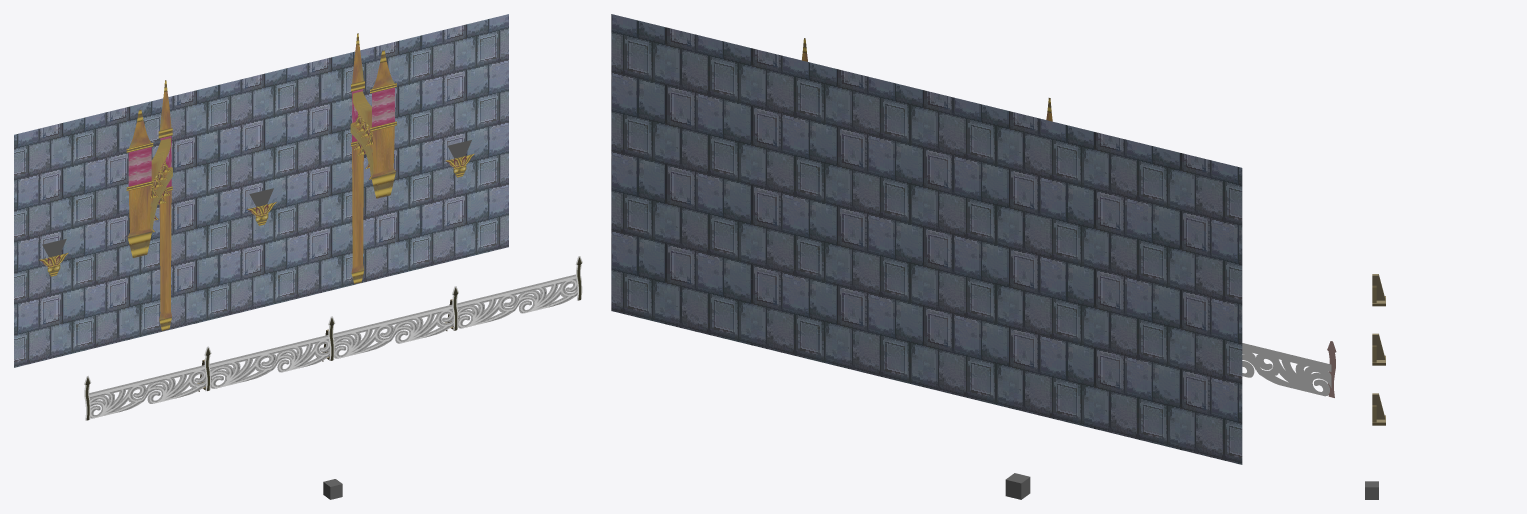
Rendered from stg_08_1.dae.
The picture shows the model from 3 angles, left to right: view 1: azimuth 30°, elevation 25°; view 2: azimuth 150°, elevation 25°; view 3: azimuth 270°, elevation 25°; orthographic projection. The views are drawn at different scales.
Parts seen in each view (by area): view 1: polySurface255_q00026, pCylinder7_q00011, polySurface1366_q00022, polySurface1352_q00031_part0, polySurface1352_q00027_part0, polySurface1352_q00027_part1, polySurface1352_q00031_part1, polySurface1352_q00027_part2, polySurface1352_q00031_part2; view 2: polySurface255_q00026, polySurface1365_q00012; view 3: pCube25_q00000, pCube24_q00021, pCube24_q00015, pCube24_q00018.
Boxes of the visible parts, bbox=[...] form: polySurface255_q00026: bbox=[14, 14, 508, 367]; pCylinder7_q00011: bbox=[89, 276, 577, 418]; polySurface1366_q00022: bbox=[89, 274, 577, 418]; polySurface1352_q00031_part0: bbox=[350, 44, 395, 272]; polySurface1352_q00027_part0: bbox=[128, 91, 172, 319]; polySurface1352_q00027_part1: bbox=[126, 80, 172, 330]; polySurface1352_q00031_part1: bbox=[351, 33, 396, 283]; polySurface1352_q00027_part2: bbox=[128, 136, 171, 187]; polySurface1352_q00031_part2: bbox=[352, 87, 394, 142]; polySurface255_q00026: bbox=[611, 14, 1242, 464]; polySurface1365_q00012: bbox=[1242, 343, 1331, 396]; pCube25_q00000: bbox=[1365, 481, 1378, 499]; pCube24_q00021: bbox=[1372, 274, 1385, 300]; pCube24_q00015: bbox=[1372, 333, 1385, 359]; pCube24_q00018: bbox=[1372, 393, 1385, 419].
Size of the model in its own units: 40.31 by 29.88 by 10.5.
